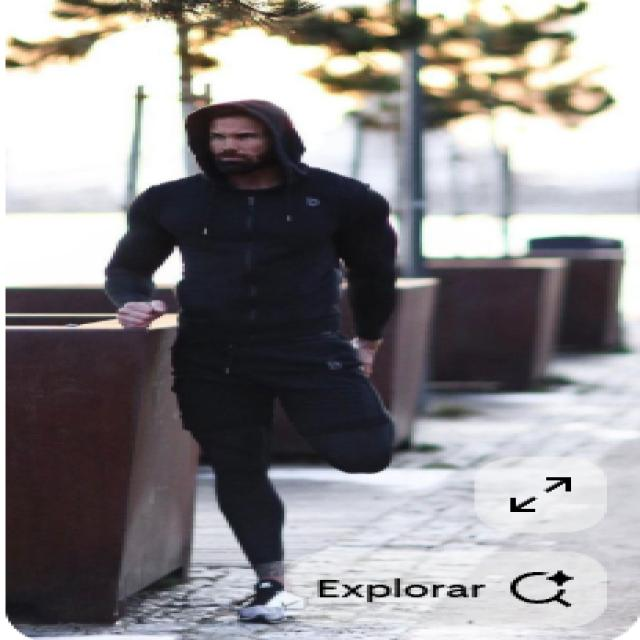4_capucha: (180, 98, 308, 178)
